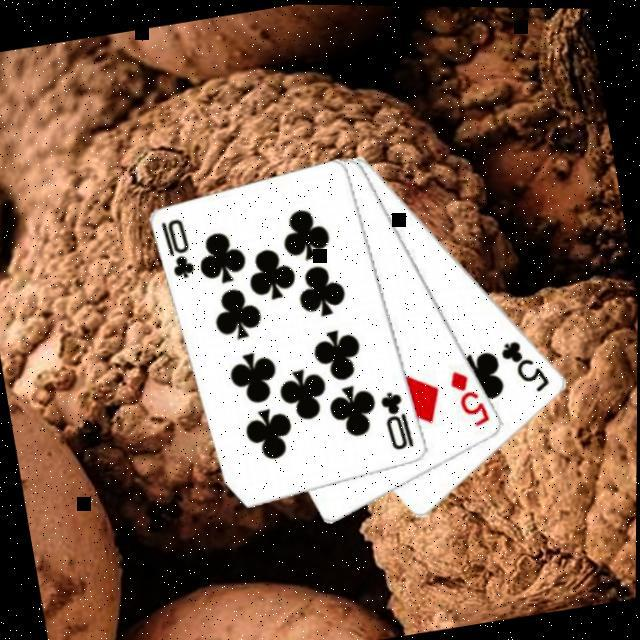10C: (157, 215, 198, 285), (375, 387, 416, 455)
5C: (495, 332, 553, 400)
5D: (444, 364, 492, 434)
